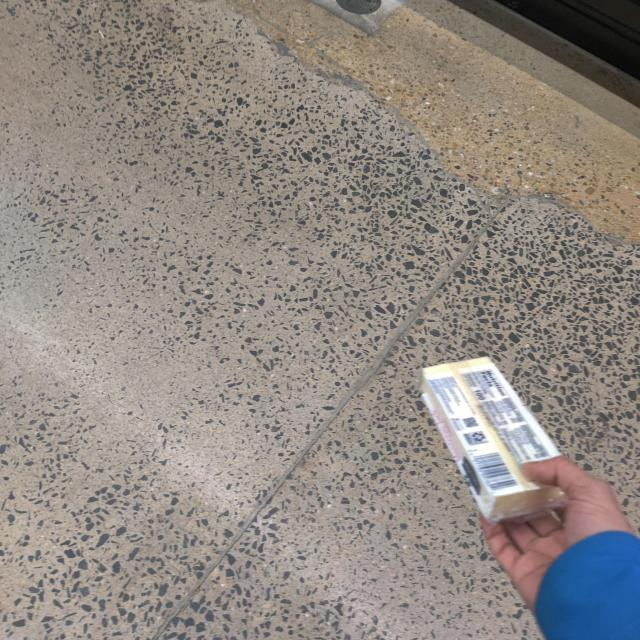Cheese: (419, 356, 570, 510)
